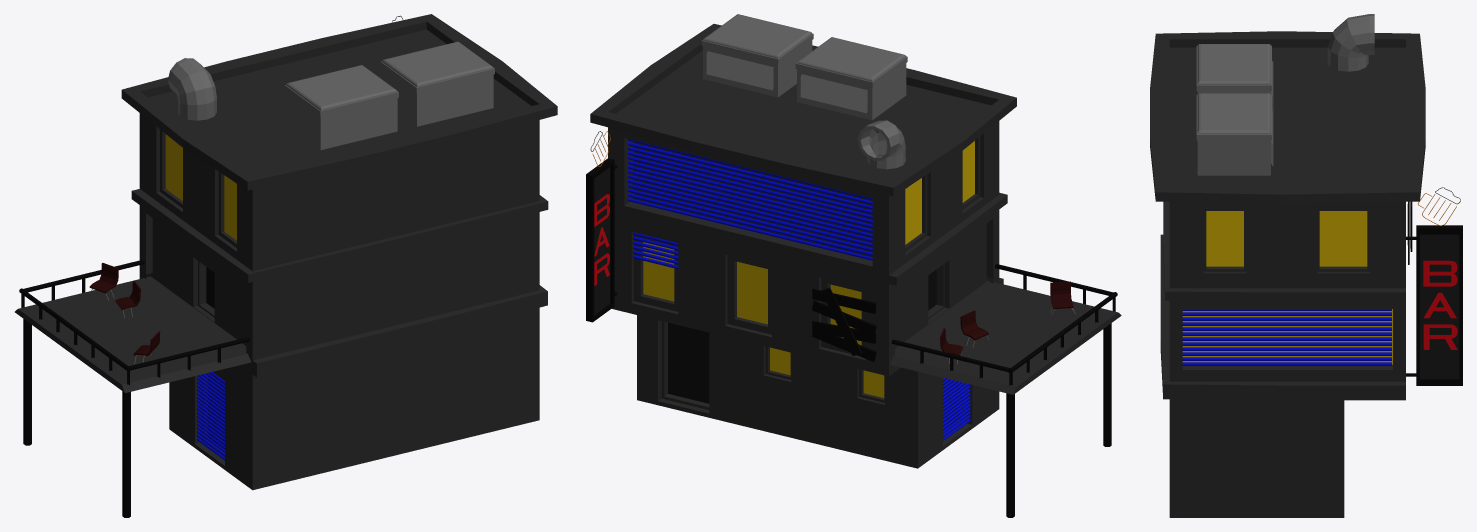
Rendered from BarBuilding1.obj.
3 renders of one model, left to right at view 1: azimuth 30°, elevation 25°; view 2: azimuth 150°, elevation 25°; view 3: azimuth 270°, elevation 25°, orthographic. The views are drawn at different scales.
Parts seen in each view (by area): view 1: FirstHouse_Cube.003, Cube.007, Cube.006, Cylinder.007, VentThing_Vert.006, Vert.003_Vert.010, Cylinder.006, Cylinder.005; view 2: FirstHouse_Cube.003, BigBars_Vert.007, Cube.007, Cube.006, sign_Cube.009, Plane.013_Plane.016, Cylinder.007, VentThing_Vert.006, AC_Unity_Plane.014, AC_Unity.001_Plane.015, Vert.003_Vert.010, LeftFrontWindow_Vert.008 (+3 smaller); view 3: FirstHouse_Cube.003, Vert.004_Vert.011, sign_Cube.009, Cube.006, Cube.007, VentThing_Vert.006, barText_Text.001.
Part boxes in pixels (left/top/right/bottom): FirstHouse_Cube.003: left=15, top=14, right=557, bottom=490; Cube.007: left=284, top=65, right=398, bottom=149; Cube.006: left=380, top=41, right=494, bottom=126; Cylinder.007: left=19, top=259, right=250, bottom=385; VentThing_Vert.006: left=168, top=58, right=216, bottom=120; Vert.003_Vert.010: left=197, top=372, right=224, bottom=460; Cylinder.006: left=122, top=391, right=130, bottom=517; Cylinder.005: left=23, top=319, right=31, bottom=445; FirstHouse_Cube.003: left=590, top=24, right=1121, bottom=468; BigBars_Vert.007: left=628, top=139, right=872, bottom=260; Cube.007: left=795, top=37, right=907, bottom=120; Cube.006: left=701, top=14, right=813, bottom=97; sign_Cube.009: left=586, top=158, right=617, bottom=322; Plane.013_Plane.016: left=812, top=287, right=876, bottom=361; Cylinder.007: left=891, top=264, right=1117, bottom=385; VentThing_Vert.006: left=857, top=120, right=905, bottom=169; AC_Unity_Plane.014: left=706, top=51, right=773, bottom=90; AC_Unity.001_Plane.015: left=800, top=74, right=867, bottom=113; Vert.003_Vert.010: left=943, top=378, right=970, bottom=440; LeftFrontWindow_Vert.008: left=633, top=232, right=678, bottom=268; FirstHouse_Cube.003: left=1150, top=31, right=1425, bottom=517; Vert.004_Vert.011: left=1182, top=309, right=1391, bottom=365; sign_Cube.009: left=1406, top=225, right=1462, bottom=385; Cube.006: left=1196, top=93, right=1271, bottom=175; Cube.007: left=1196, top=44, right=1271, bottom=94; VentThing_Vert.006: left=1327, top=14, right=1374, bottom=71; barText_Text.001: left=1423, top=260, right=1457, bottom=349.
Size of the model in its own units: 14.16 by 11.22 by 8.52.
